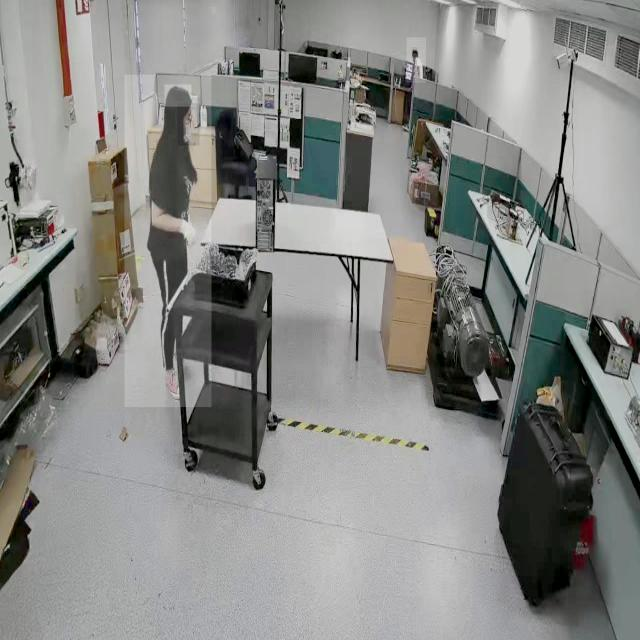face_mask: (178, 103, 200, 146)
hand_glove: (175, 213, 197, 250)
head_nohelmet: (164, 84, 192, 108), (412, 47, 418, 54)
person: (124, 75, 212, 408), (406, 38, 426, 84)
shoes: (161, 359, 183, 402)
